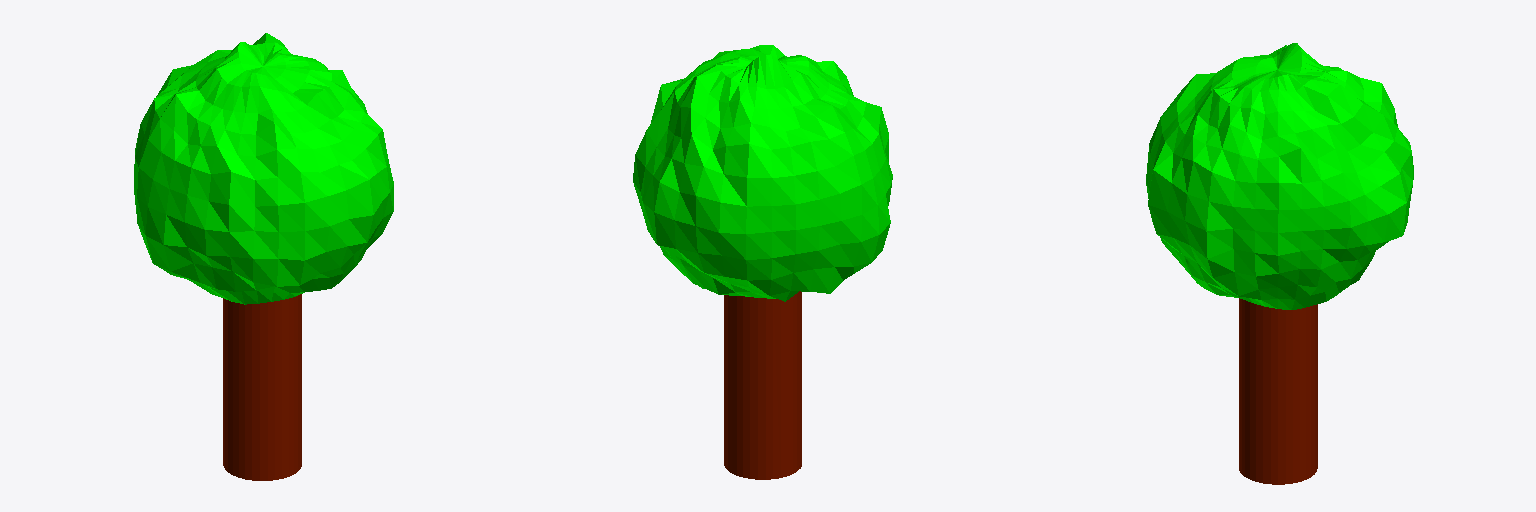
3 views of the same model, side by side, from view 1: azimuth 30°, elevation 25°; view 2: azimuth 150°, elevation 25°; view 3: azimuth 270°, elevation 25° (orthographic).
Parts seen in each view (by area): view 1: Cylinder; view 2: Cylinder; view 3: Cylinder.
Part boxes in pixels (left/top/right/bottom): Cylinder: left=134, top=33, right=393, bottom=480; Cylinder: left=633, top=45, right=892, bottom=479; Cylinder: left=1146, top=43, right=1413, bottom=484.
Bounding box in the file's own units: 6.49 × 11.7 × 6.8.
1 materials, 1 textured.